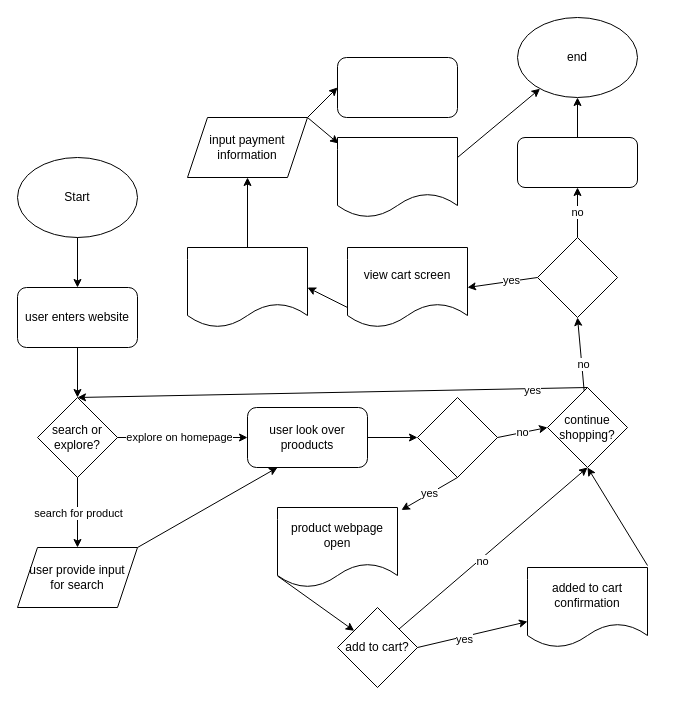
The diagram is 673 pixels wide and 705 high, and some of its shapes have lost their labels. The box of each missing label's shape, as (x1, y1, x2, y2) in pixels:
checkout?: (536, 236, 618, 318)
confirmation email: (336, 56, 458, 118)
confirmation screen: (336, 136, 458, 218)
leave website: (516, 136, 638, 188)
view a specific product?: (416, 396, 498, 478)
view payment screen: (186, 246, 308, 328)
